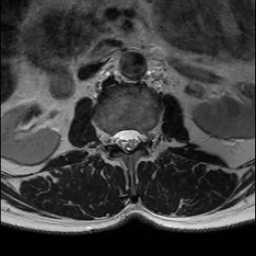CCS_normal: (123, 119, 132, 159)
LFS_normal: (141, 122, 149, 149)
LLS_normal: (132, 120, 141, 155)
RFS_normal: (103, 121, 113, 155)
RLS_normal: (113, 122, 123, 154)
